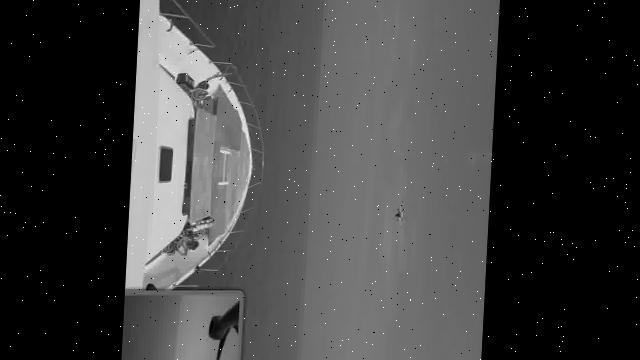drone: (390, 196, 417, 228)
